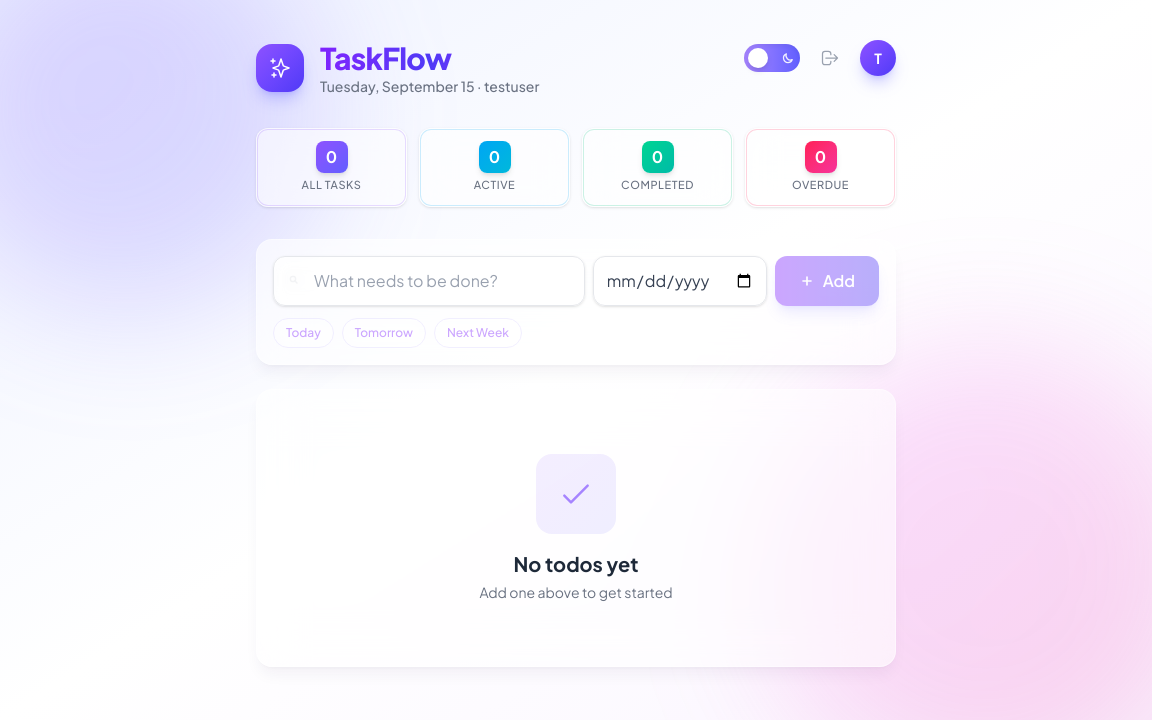
TodoApp › adding todos › adds a todo via button click
Type "Buy groceries" into the field with placeholder "What needs to be done?". click: (429, 280)
box: [273,256,585,306]
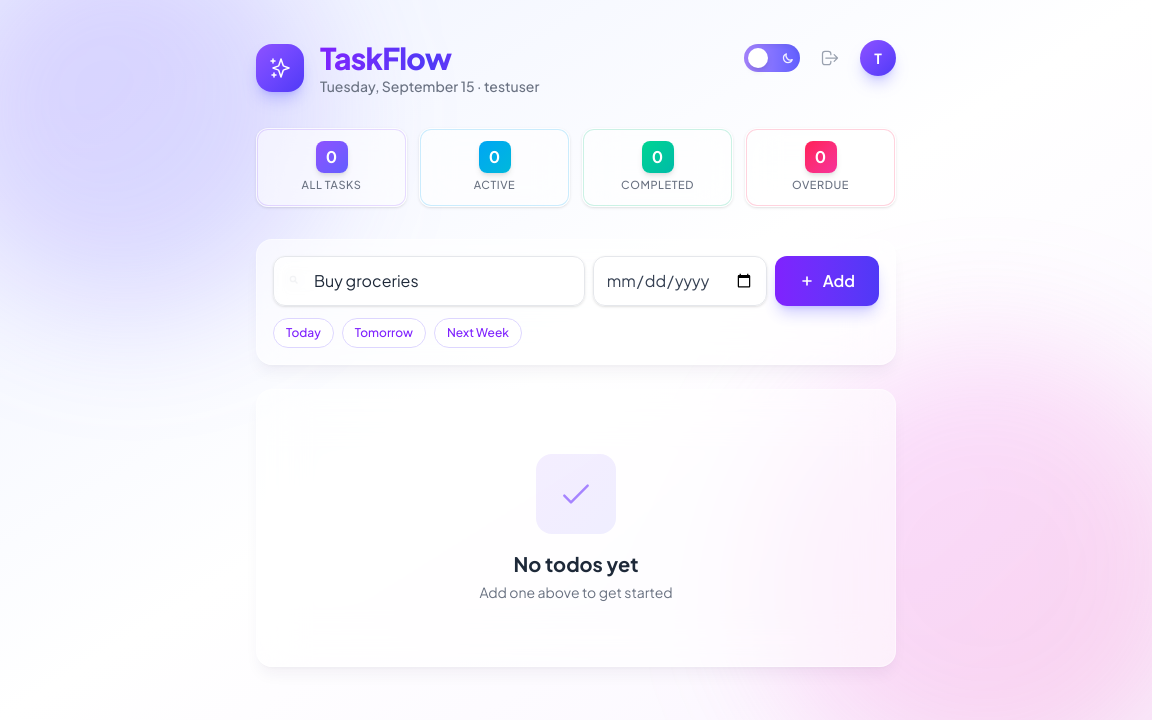
Click the button "Add". click: (827, 280)
box: [775,256,879,306]
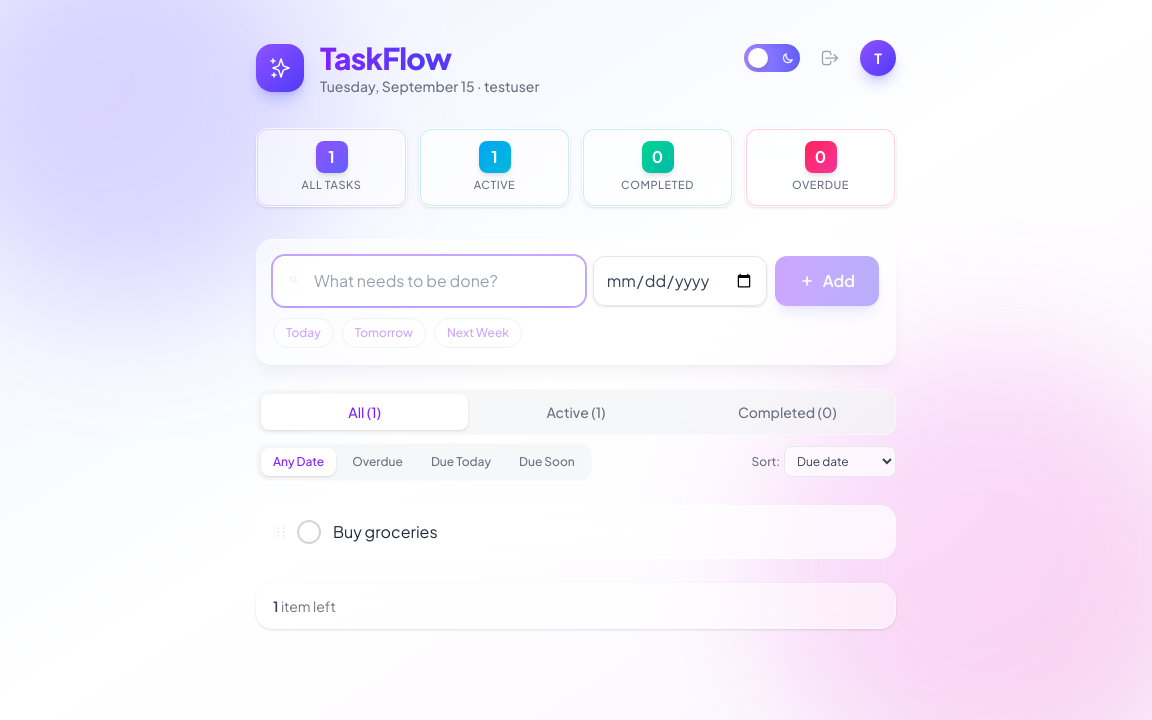
Check: the text "Buy groceries" is shown, box [333,520,438,542]
Check: the heading "No todos yet" is gone
